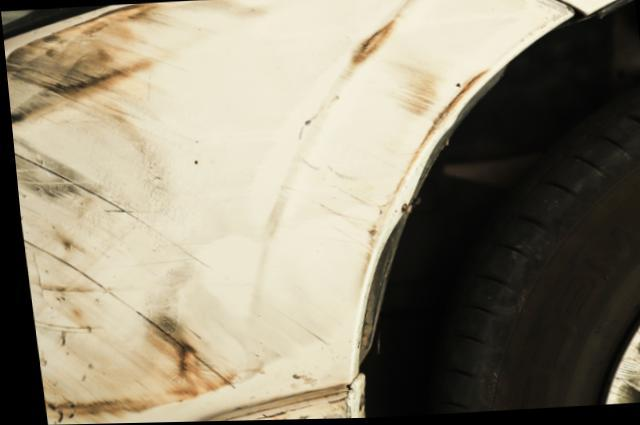scratch: (4, 0, 501, 425)
